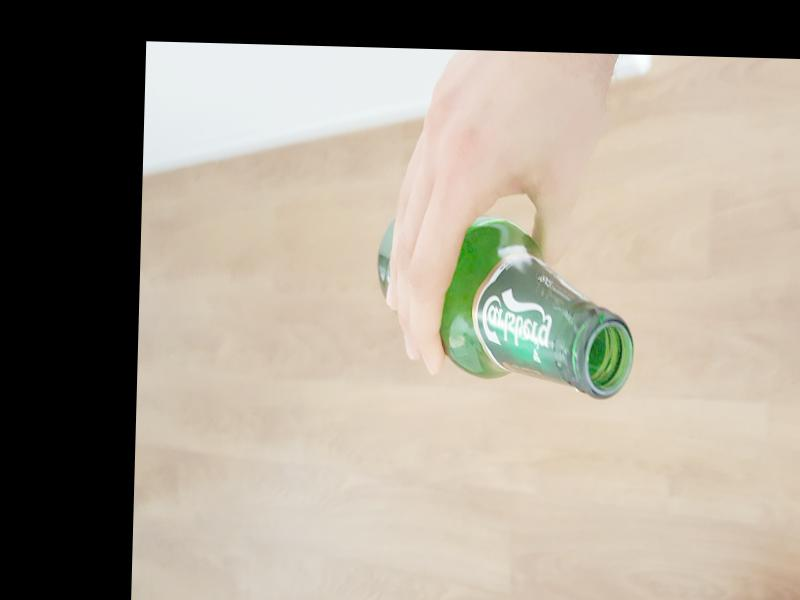Beer: (374, 215, 636, 402)
